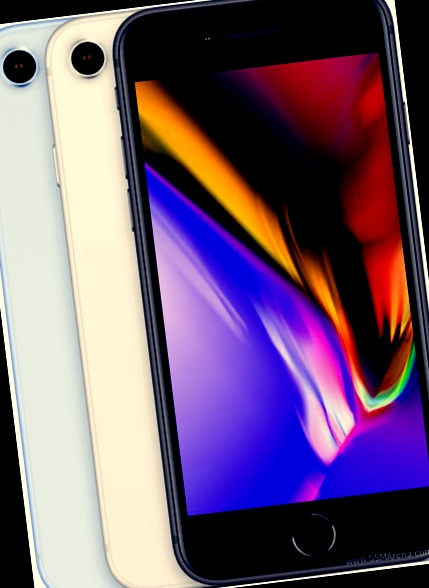iphone: (140, 3, 429, 586)
